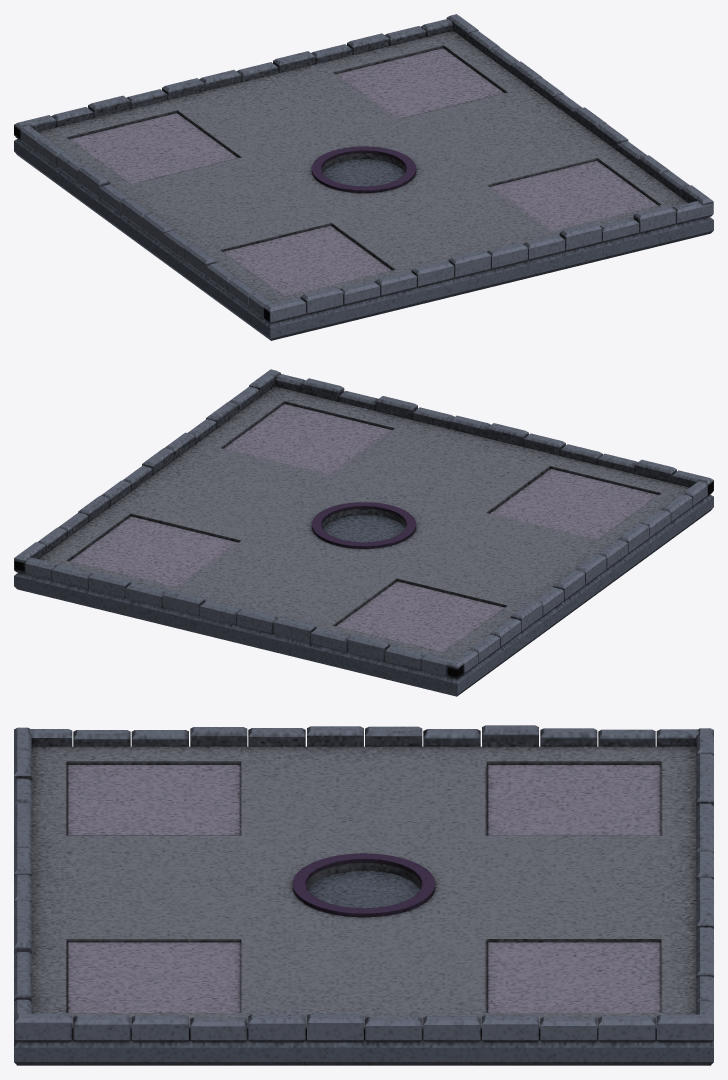
The model's file is tablero_halloween_base.glb.
3 views of the same model, one above another, from view 1: azimuth 30°, elevation 25°; view 2: azimuth 150°, elevation 25°; view 3: azimuth 270°, elevation 25° (orthographic). The views are drawn at different scales.
Visible parts, largest first — view 1: Base_Floor, Base_Body, HomeZone_1, HomeZone_4, HomeZone_2, HomeZone_3, Socket_Ring, Rim_20, Rim_17, Rim_22, Rim_13, Rim_16 (+17 smaller); view 2: Base_Floor, Base_Body, HomeZone_3, HomeZone_4, HomeZone_1, HomeZone_2, Socket_Ring, Rim_02, Rim_00, Rim_04, Rim_07, Rim_09 (+19 smaller); view 3: Base_Floor, Base_Body, HomeZone_3, HomeZone_4, HomeZone_1, HomeZone_2, Socket_Ring, Rim_47, Rim_43, Rim_36, Rim_42, Rim_45 (+20 smaller).
Boxes of the visible parts, <box> form: Base_Floor: <box>38,30,687,303</box>; Base_Body: <box>14,139,713,340</box>; HomeZone_1: <box>69,113,237,184</box>; HomeZone_4: <box>489,160,657,231</box>; HomeZone_2: <box>223,225,391,296</box>; HomeZone_3: <box>336,48,503,119</box>; Socket_Ring: <box>312,146,415,192</box>; Rim_20: <box>559,223,602,251</box>; Rim_17: <box>448,250,491,278</box>; Rim_22: <box>633,205,676,233</box>; Rim_13: <box>300,287,343,314</box>; Rim_16: <box>411,260,454,287</box>; Base_Floor: <box>39,386,689,659</box>; Base_Body: <box>14,494,713,696</box>; HomeZone_3: <box>70,516,238,587</box>; HomeZone_4: <box>223,404,392,474</box>; HomeZone_1: <box>336,581,504,652</box>; HomeZone_2: <box>490,469,658,539</box>; Socket_Ring: <box>312,502,415,548</box>; Rim_02: <box>347,634,390,661</box>; Rim_00: <box>421,653,464,679</box>; Rim_04: <box>273,616,316,643</box>; Rim_07: <box>162,589,205,616</box>; Rim_09: <box>88,572,131,598</box>; Base_Floor: <box>31,746,696,1035</box>; Base_Body: <box>14,870,713,1065</box>; HomeZone_3: <box>486,942,661,1012</box>; HomeZone_4: <box>66,942,241,1012</box>; HomeZone_1: <box>486,765,661,835</box>; HomeZone_2: <box>66,765,241,835</box>; Socket_Ring: <box>293,853,434,917</box>; Rim_47: <box>15,1013,72,1042</box>; Rim_43: <box>248,1014,305,1042</box>; Rim_36: <box>656,1014,713,1042</box>; Rim_42: <box>307,1014,363,1042</box>; Rim_45: <box>131,1015,188,1042</box>.
Bounding box in the file's own units: 12 × 0.9074 × 12.
Materials: 5 (5 with a texture image).
